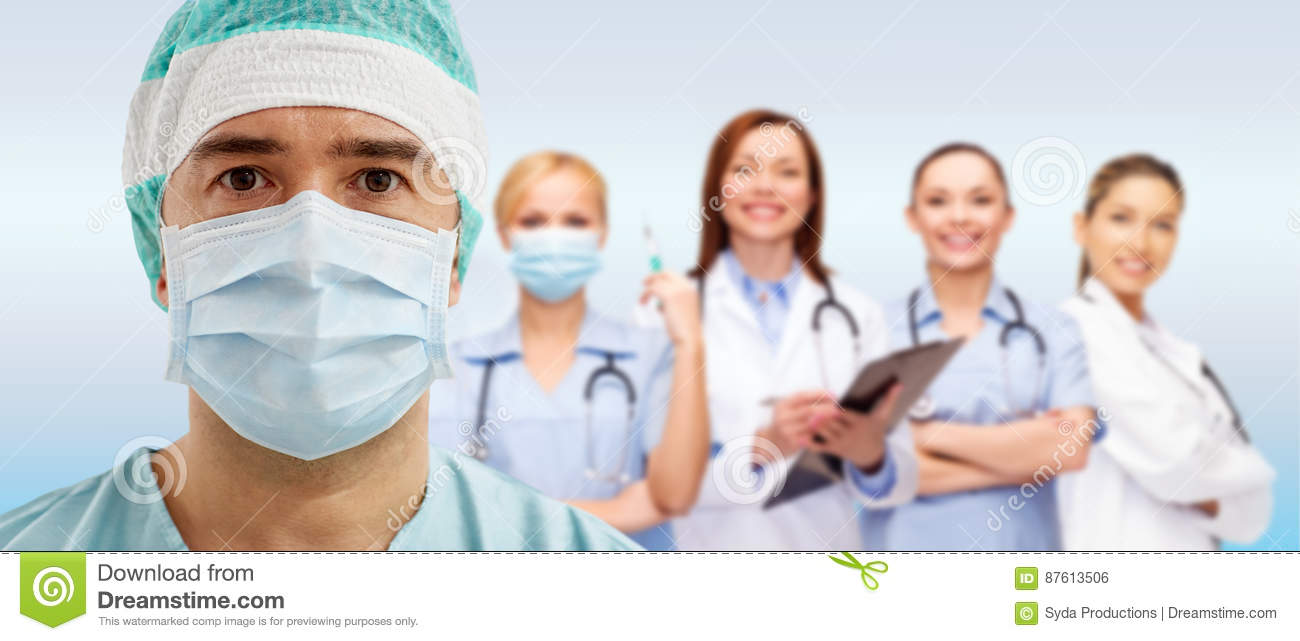mask: (159, 220, 462, 459)
